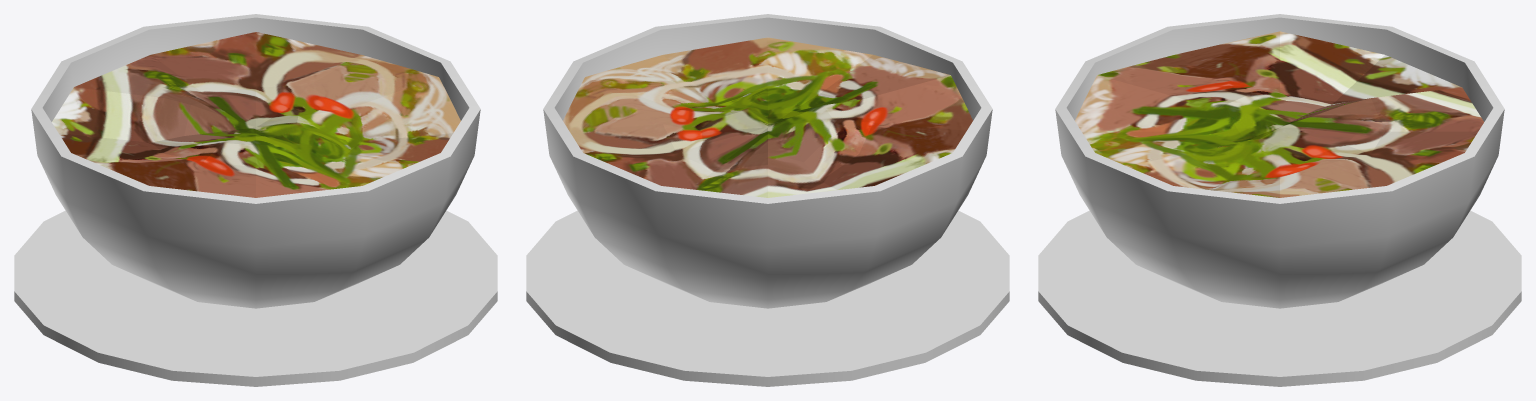
The model's file is Food_pho.FBX.
3 views of the same model, side by side, from view 1: azimuth 30°, elevation 25°; view 2: azimuth 150°, elevation 25°; view 3: azimuth 270°, elevation 25° (orthographic).
Parts seen in each view (by area): view 1: Arc001, Arc002, Cylinder001; view 2: Arc001, Arc002, Cylinder001; view 3: Arc001, Arc002, Cylinder001.
Boxes of the visible parts, x1=… form: Arc001: x1=31, y1=14, x2=480, y2=308; Arc002: x1=52, y1=32, x2=460, y2=197; Cylinder001: x1=14, y1=210, x2=497, y2=386; Arc001: x1=543, y1=14, x2=992, y2=308; Arc002: x1=563, y1=37, x2=972, y2=197; Cylinder001: x1=526, y1=210, x2=1009, y2=386; Arc001: x1=1055, y1=14, x2=1504, y2=308; Arc002: x1=1075, y1=31, x2=1483, y2=197; Cylinder001: x1=1038, y1=210, x2=1521, y2=386.
Size of the model in its own units: 150 by 59.98 by 148.
